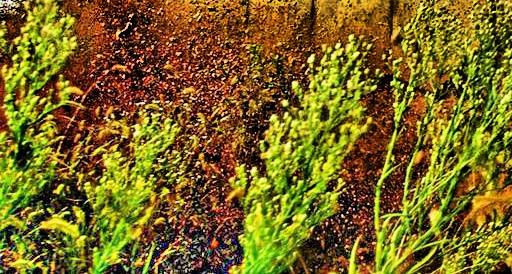tanks: (196, 1, 424, 45), (450, 1, 484, 11), (177, 1, 196, 13)
